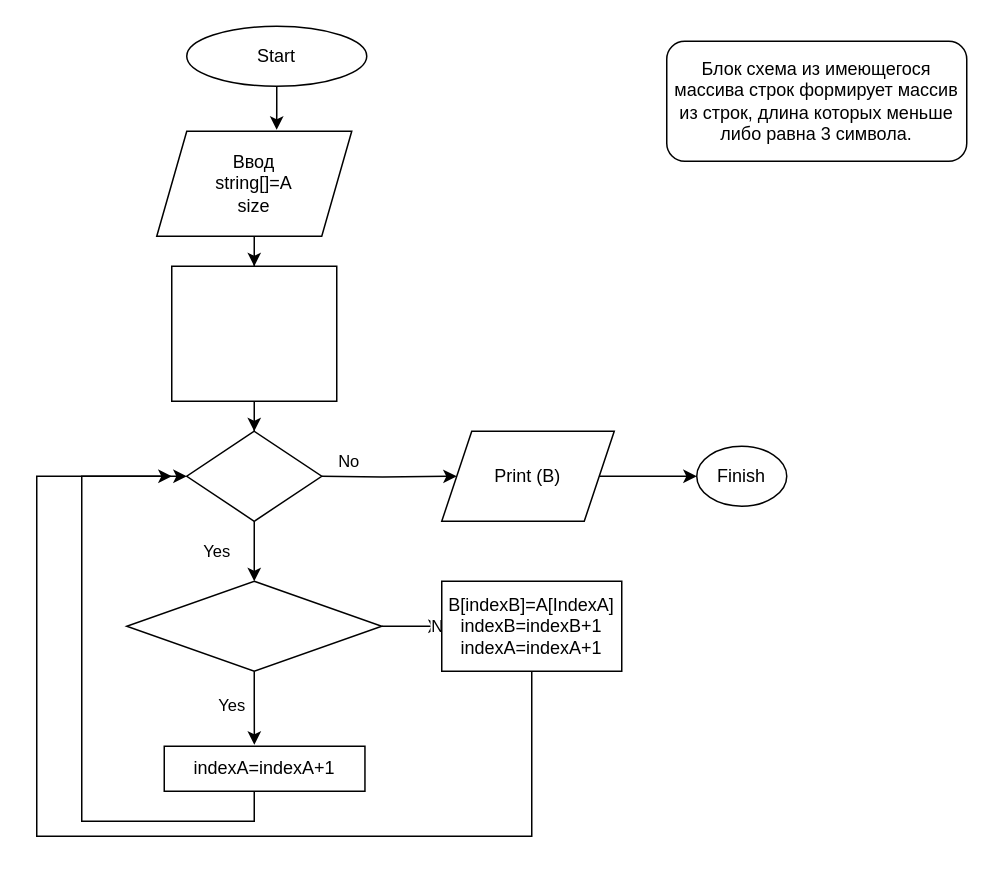
Image size: 993x875. Some labels were removed from this diagram. Each missing label, with the centre of its shape:
"A[IndexA].Lenght>3 ?" goes at (253,625).
"indexA<size ?" goes at (253,475).
"indexA=0 string[]=B B=0 indexB=0" goes at (253,333).
